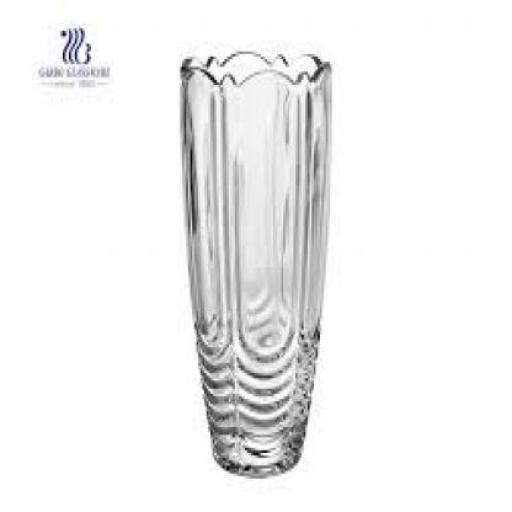glass: (178, 48, 328, 476)
